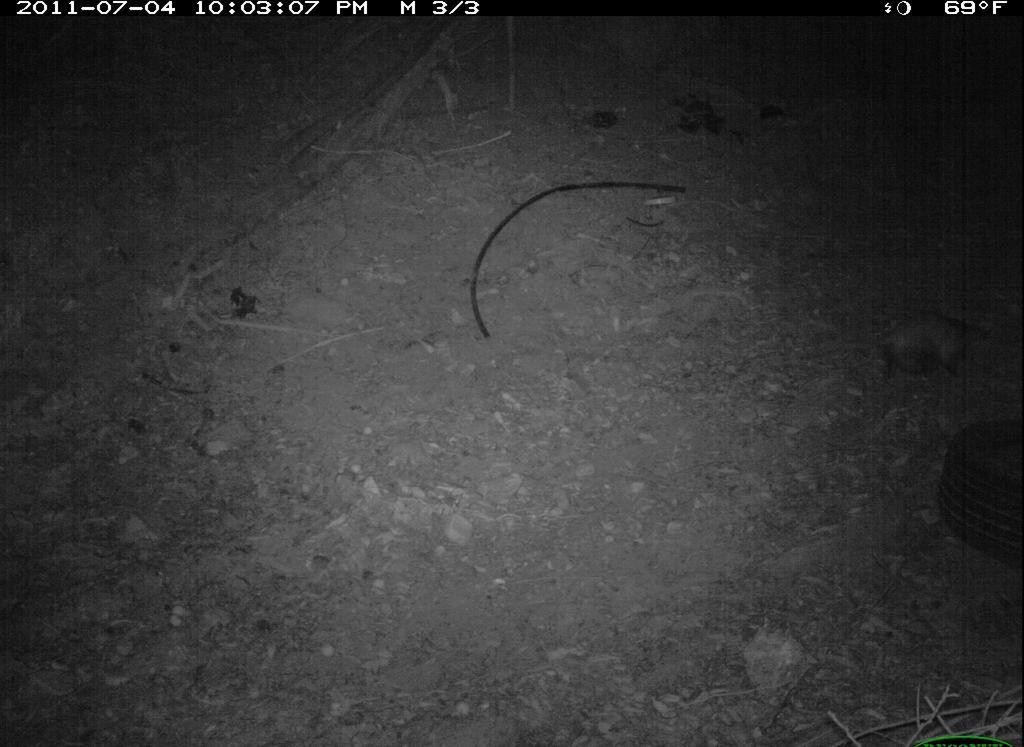opossum: (810, 305, 999, 393)
